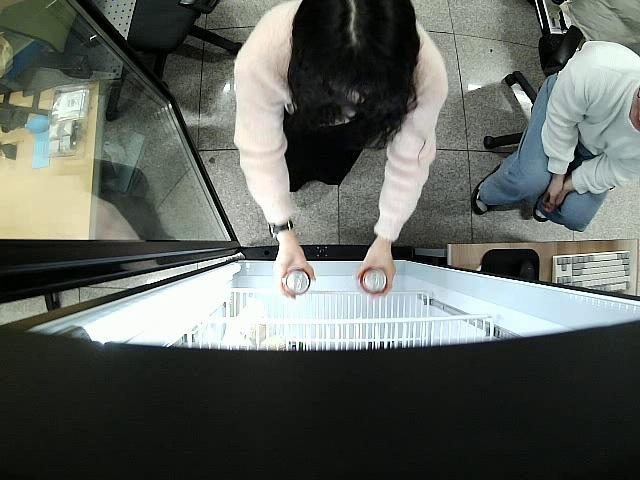11_cocaColaZero: (360, 268, 390, 295), (282, 270, 310, 296)
